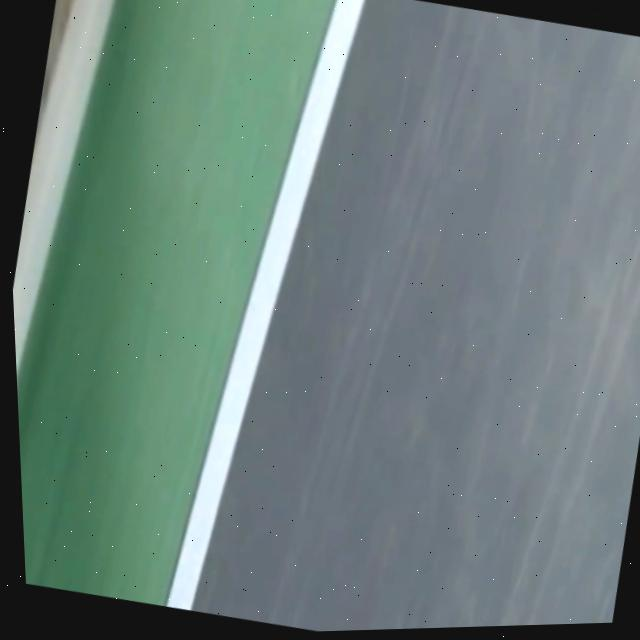right: (167, 0, 366, 611)
